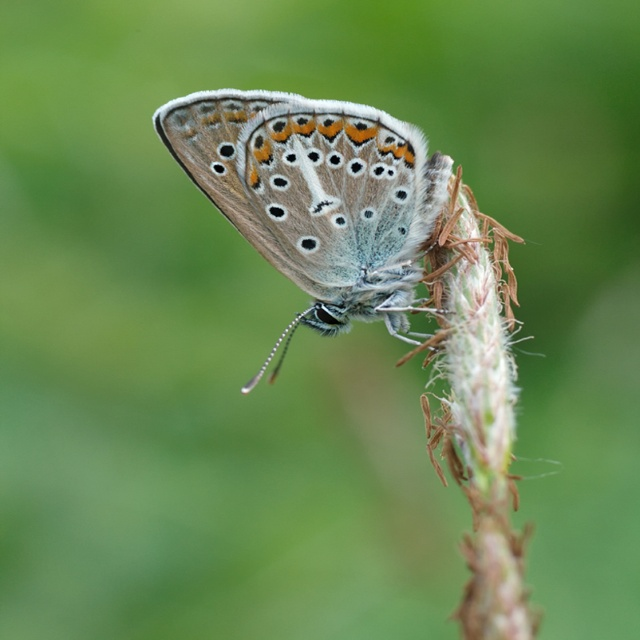Butterfly: (186, 145, 502, 380)
